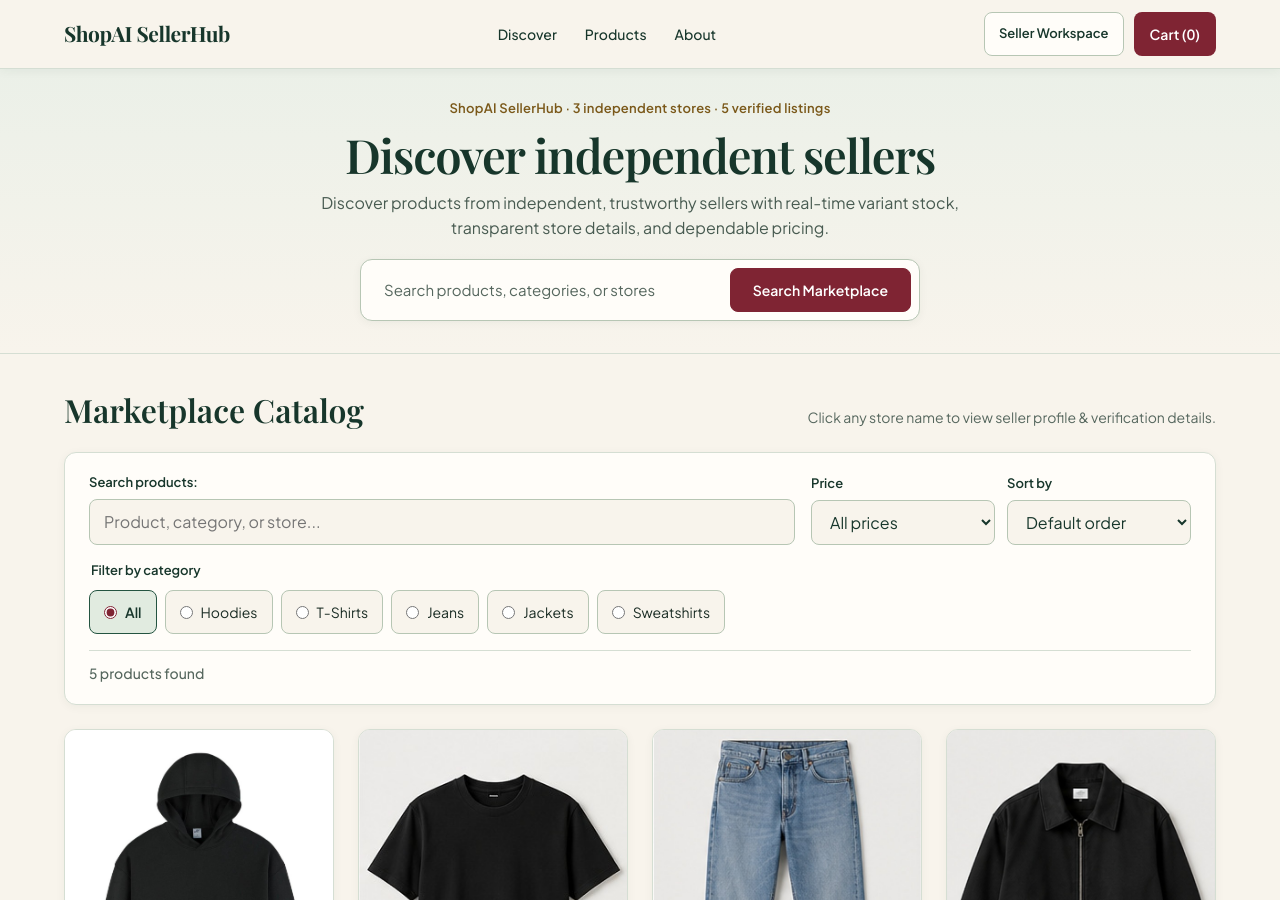
Scenario: Stage 1 catalog enhancements › opens Seller Workspace preview modal from header and synchronizes hero search
Click the button "Seller Workspace" at (1054, 34), box top-left (984, 12), bottom-right (1124, 56)
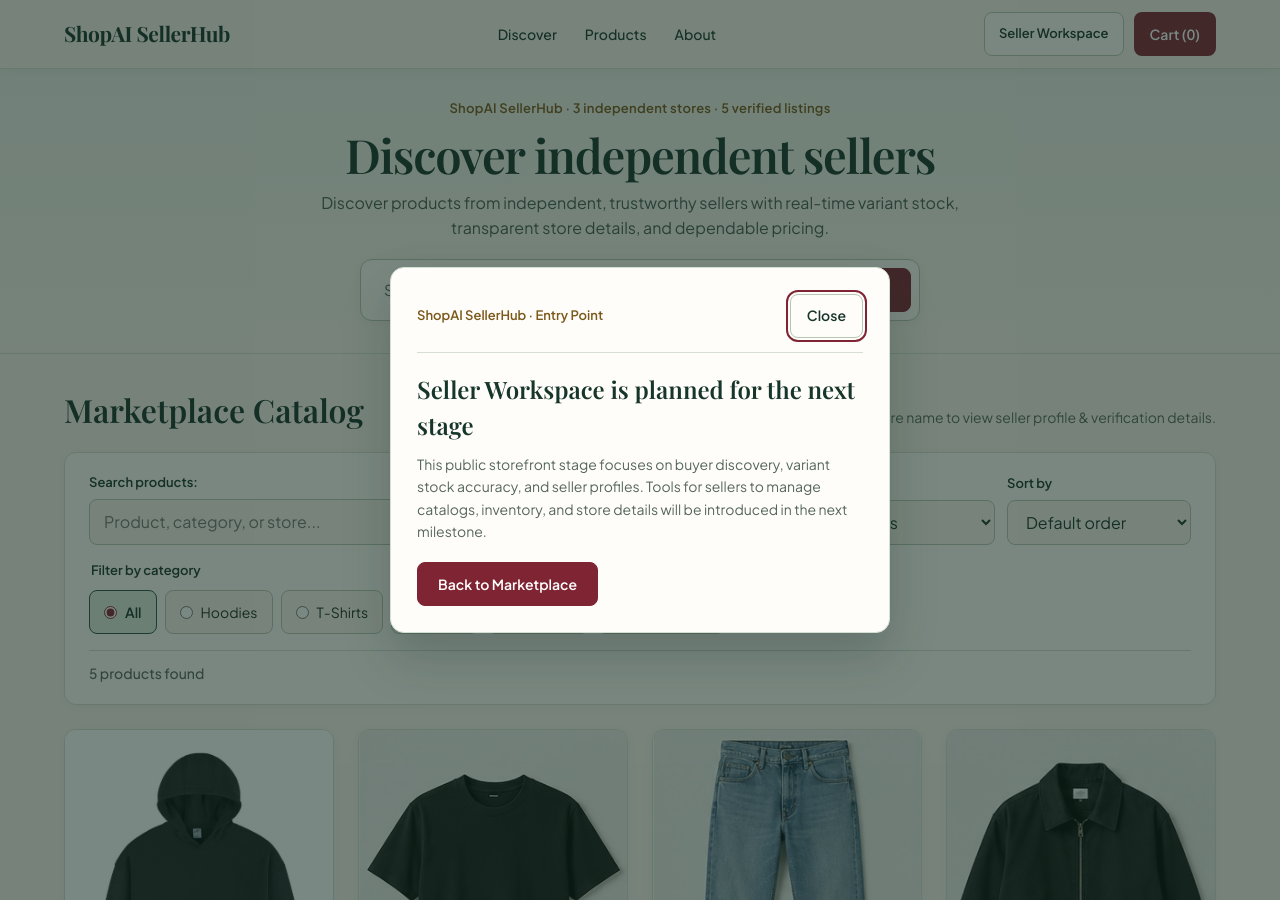
Expected: the heading "Seller Workspace is planned for the next stage" is shown, top-left (417, 371), bottom-right (863, 443)
Press Escape
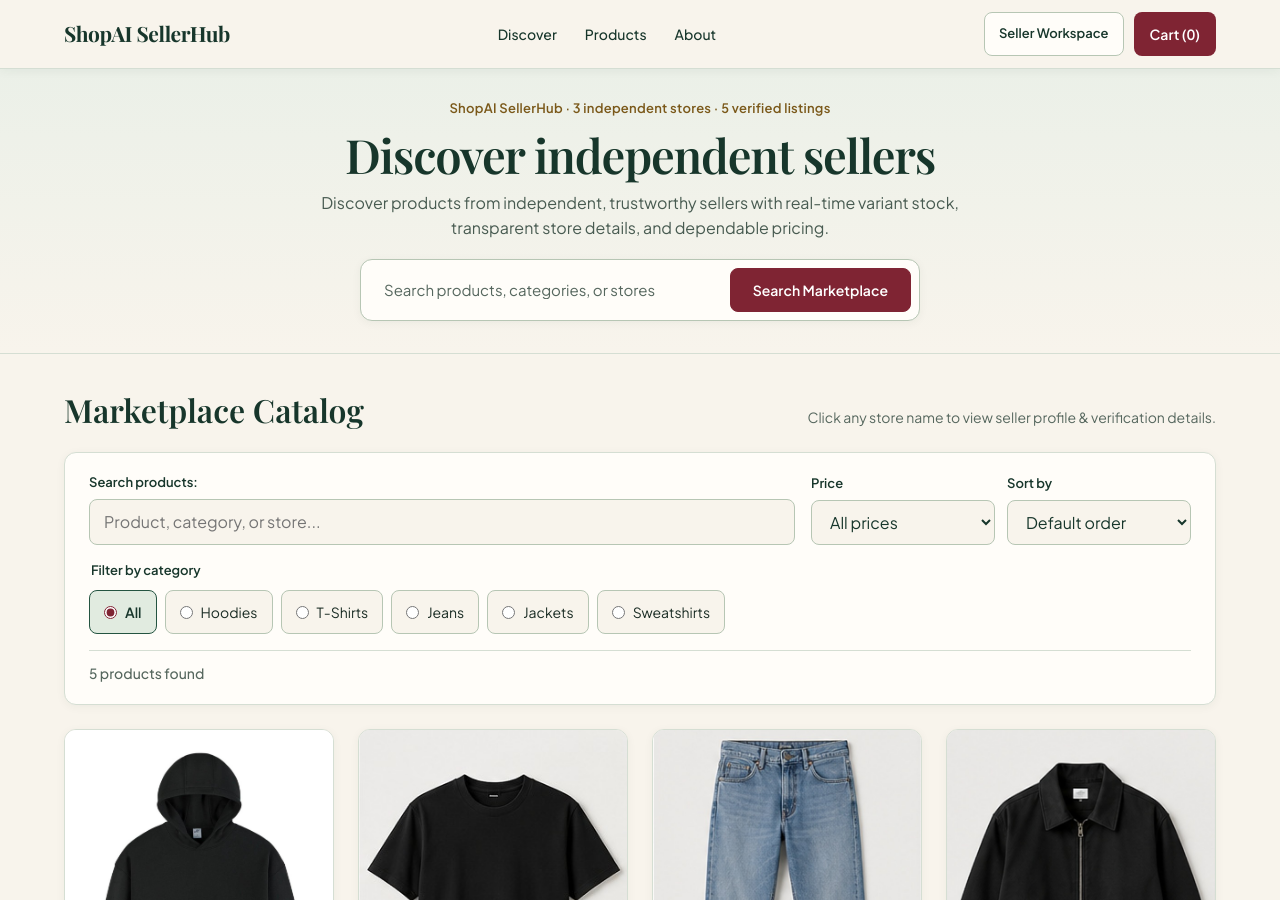
Expected: the dialog is gone
Type "Jacket" into the search field named "find items or categories" at (544, 290), box top-left (369, 268), bottom-right (720, 312)
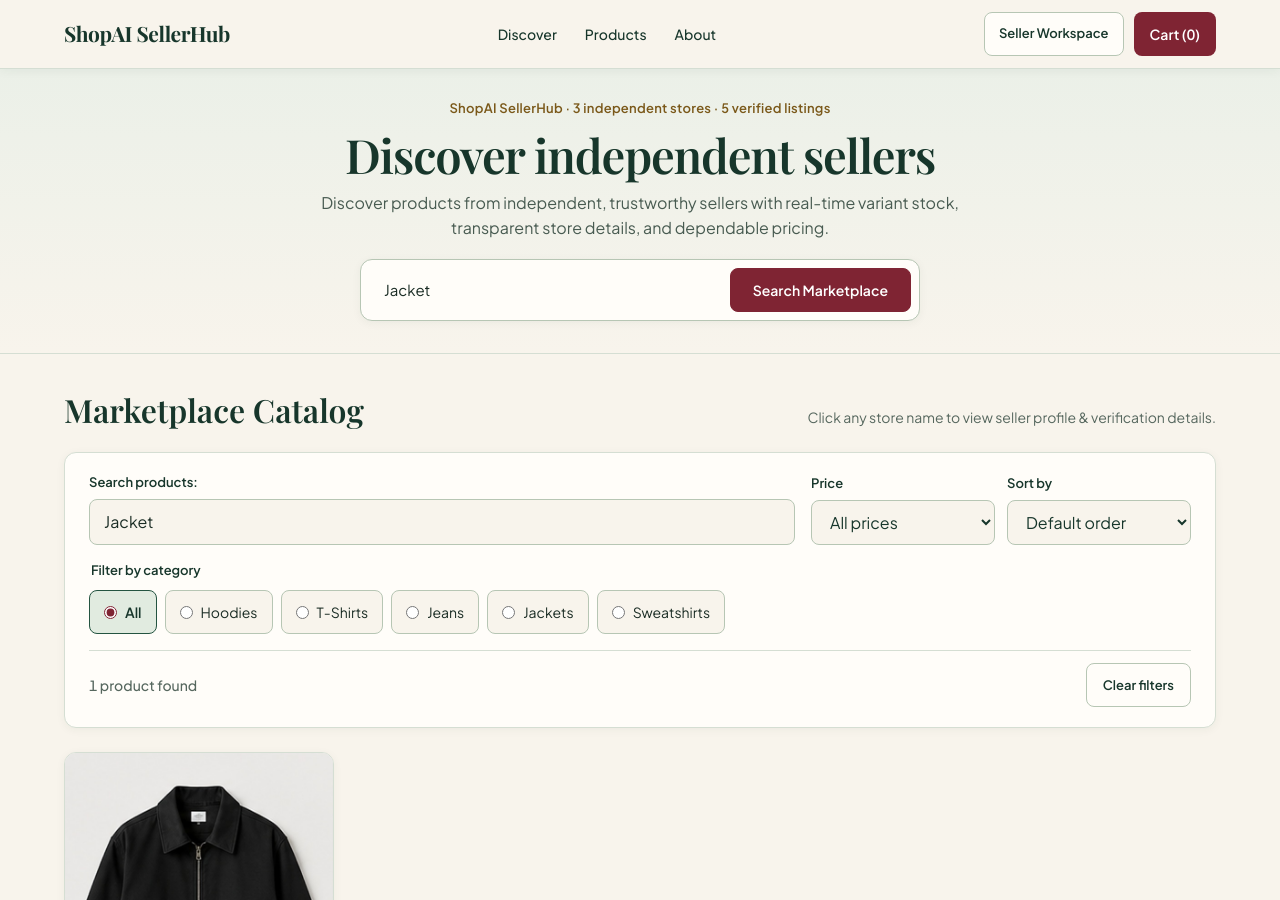
Expected: the text "1 product found" is shown, top-left (89, 675), bottom-right (197, 696)
